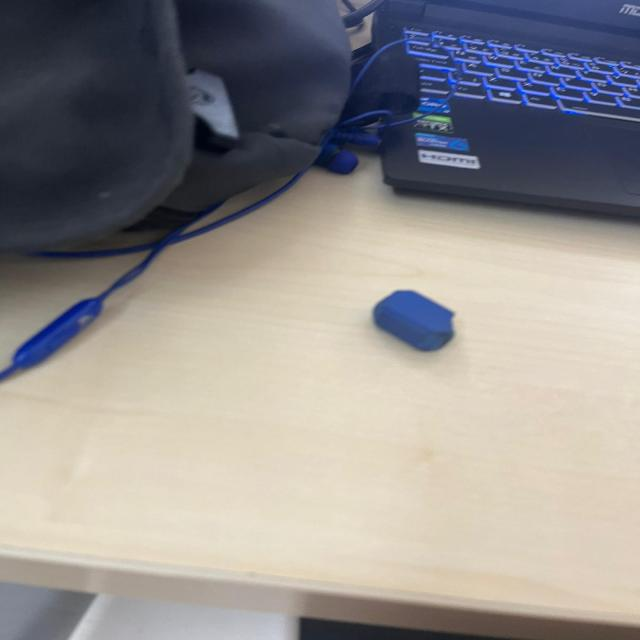eraser: (363, 284, 466, 355)
